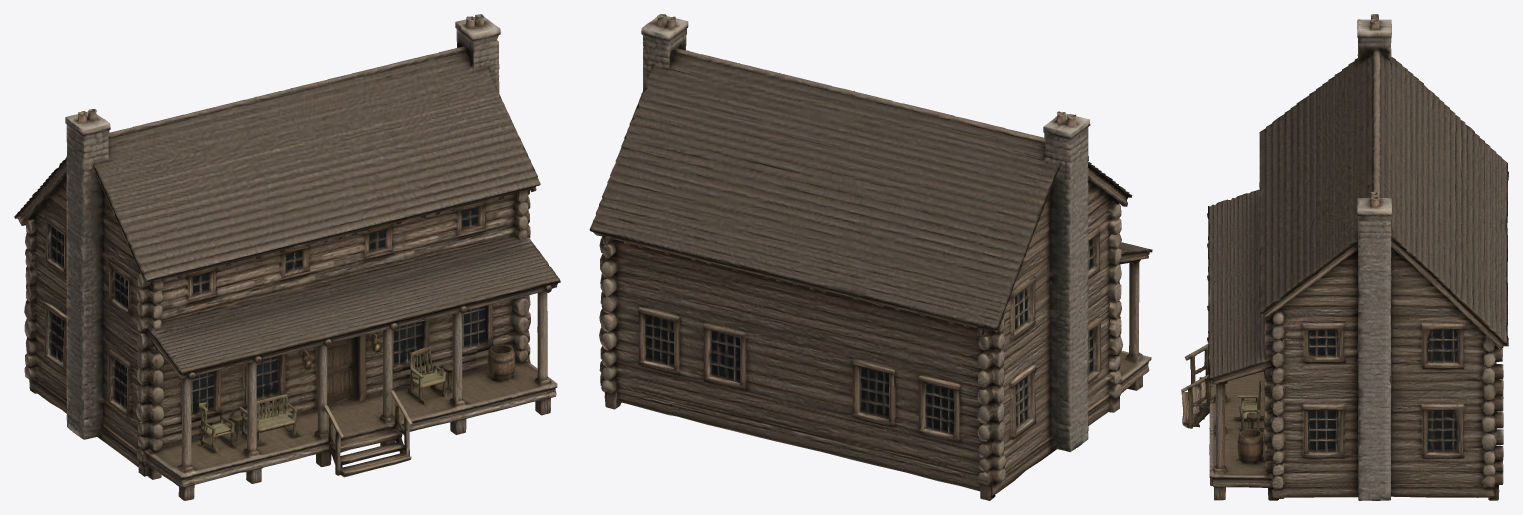
The model's file is tripo_convert_d9d48860-bdc1-470c-a618-39392ccbc4be.fbx.
3 renders of one model, left to right at view 1: azimuth 30°, elevation 25°; view 2: azimuth 150°, elevation 25°; view 3: azimuth 270°, elevation 25°, orthographic. The views are drawn at different scales.
Visible parts, largest first — view 1: tripo_node_d9d48860; view 2: tripo_node_d9d48860; view 3: tripo_node_d9d48860.
Part boxes in pixels (bbox=[...]): tripo_node_d9d48860: bbox=[14, 14, 560, 500]; tripo_node_d9d48860: bbox=[589, 14, 1152, 500]; tripo_node_d9d48860: bbox=[1181, 14, 1508, 500].
Size of the model in its own units: 0.9807 by 0.7432 by 0.711.
Materials: 1 (1 with a texture image).
